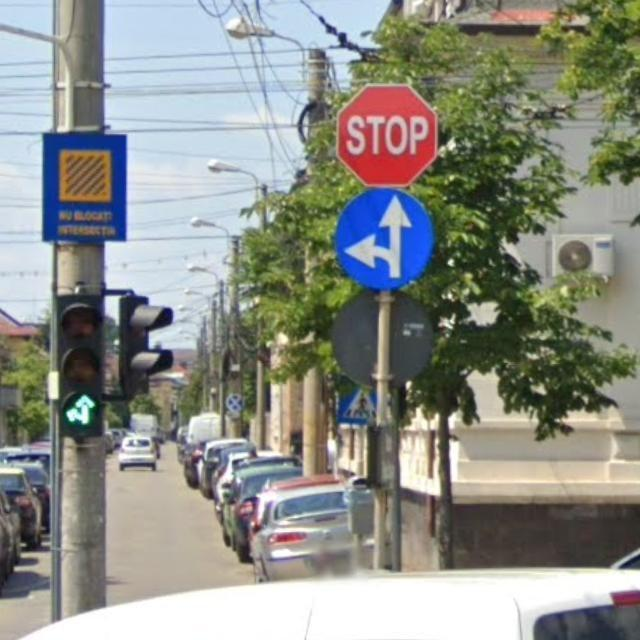info_crosswalk: (335, 375, 382, 426)
prio_stop: (335, 85, 440, 188)
